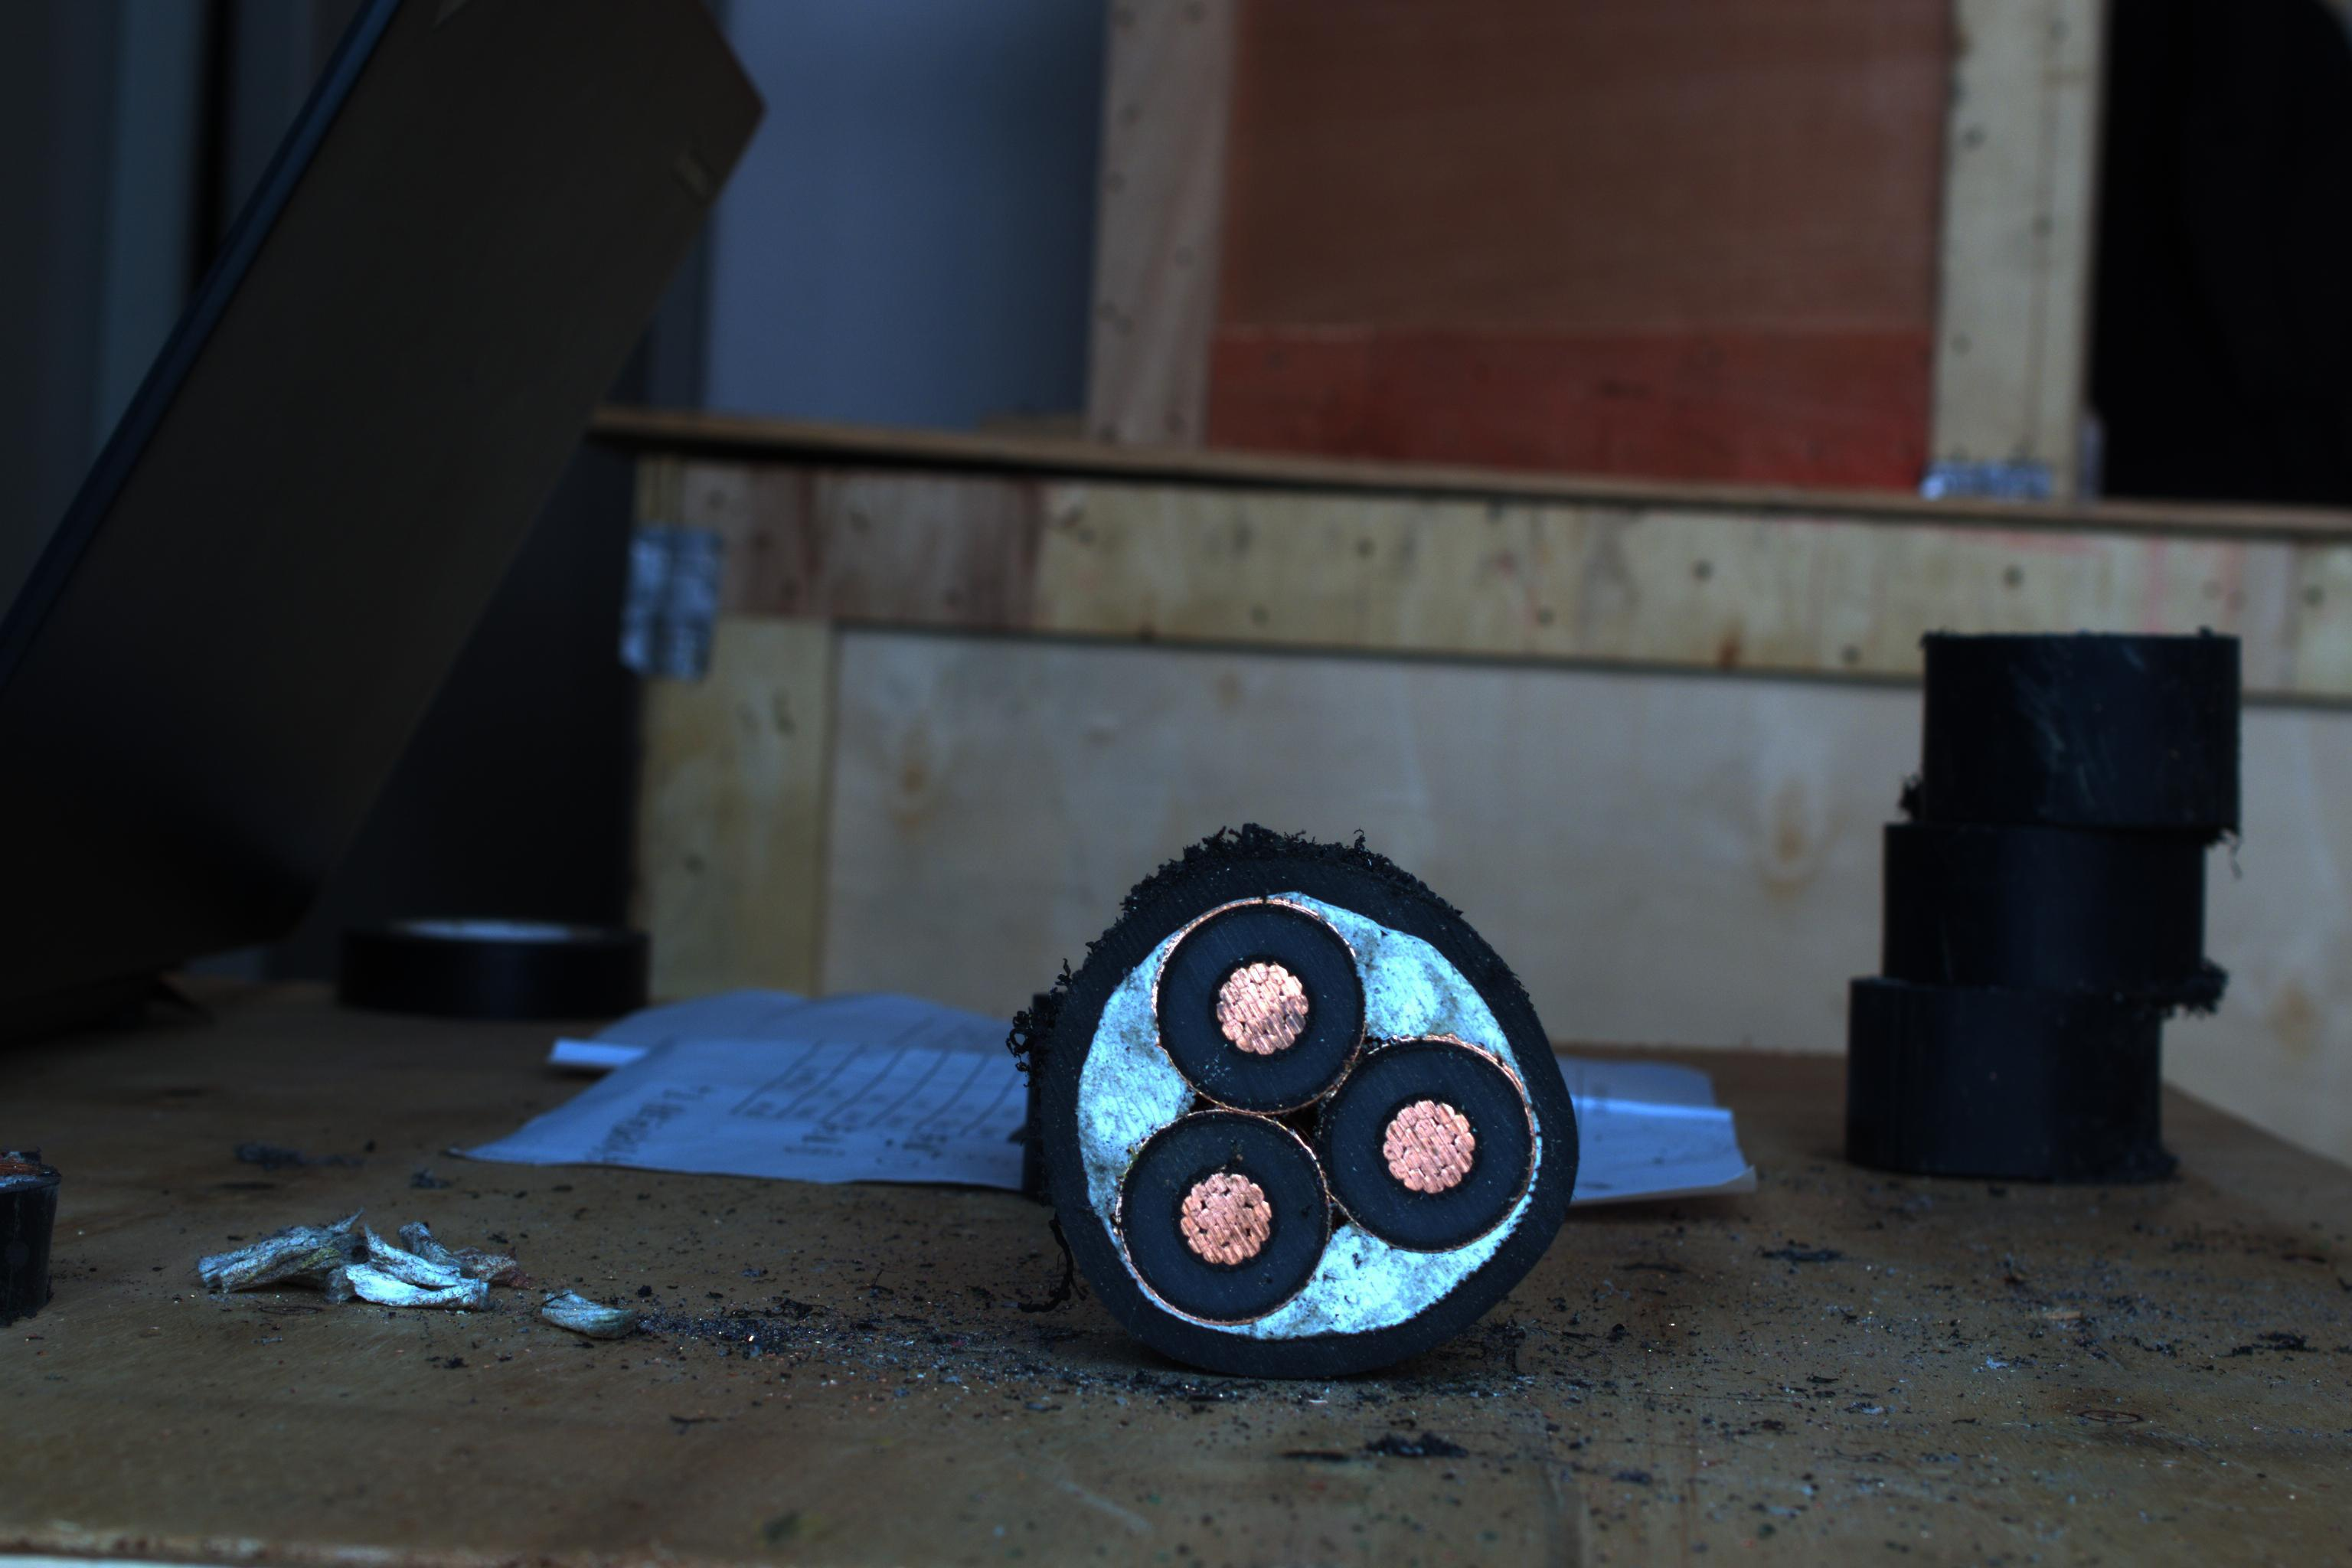YJV_8.7_10kV_3x70: (1046, 857, 1592, 1354)
